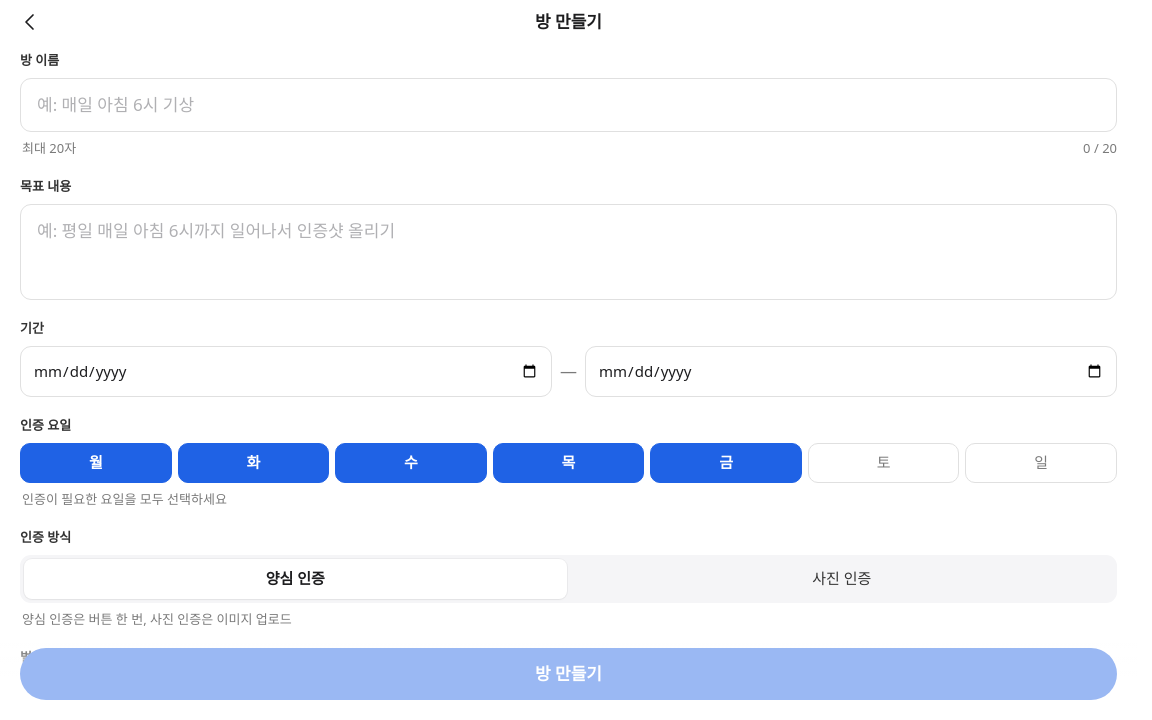
it: RoomNewPage › 종료일이 시작일보다 빠르면 안내를 보여주고 제출을 막는다
In the field labelled "방 이름": (568, 105) [20,78,1117,132], type "아침 6시 기상"
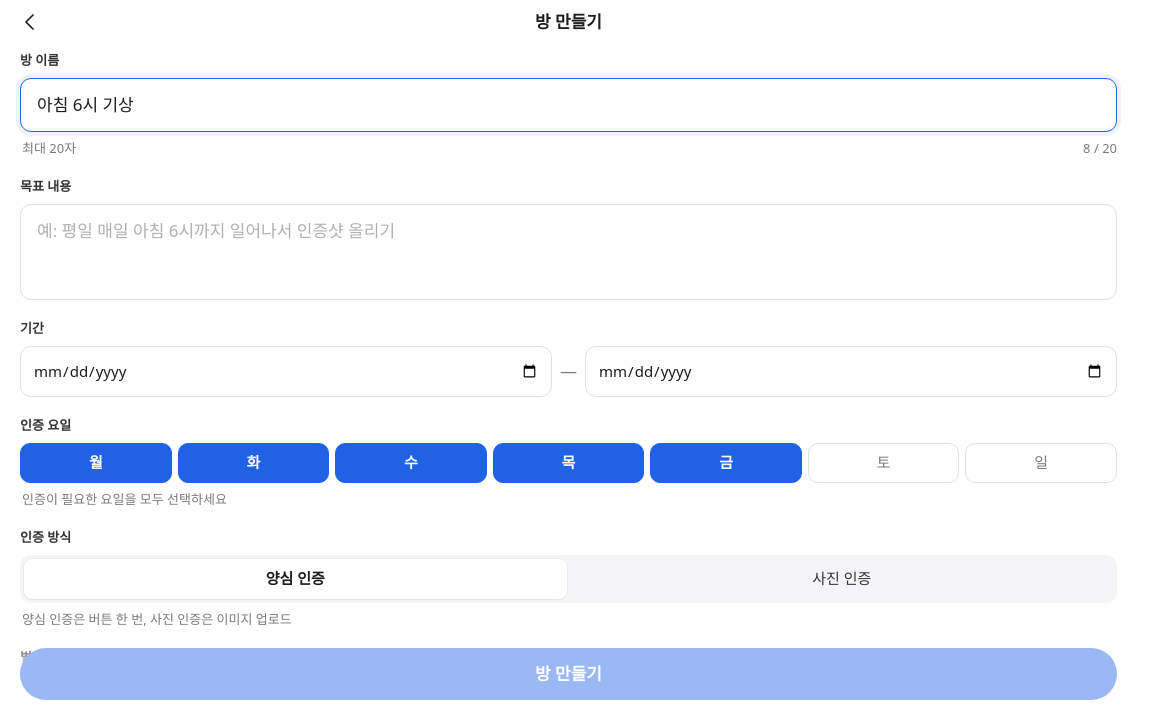
In the text box labelled "목표 내용": (568, 252) [20,204,1117,300], type "평일 6시 기상 인증"
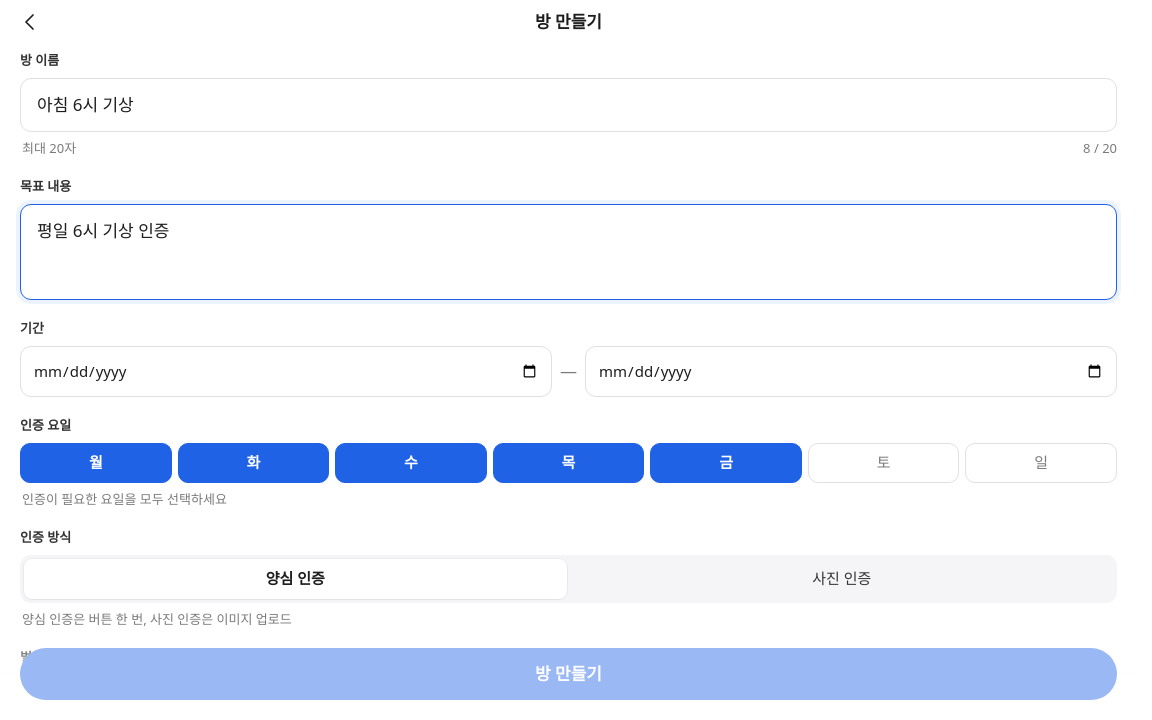
In the date field named "시작일": (286, 371) [20,346,552,397], type "2026-05-27"
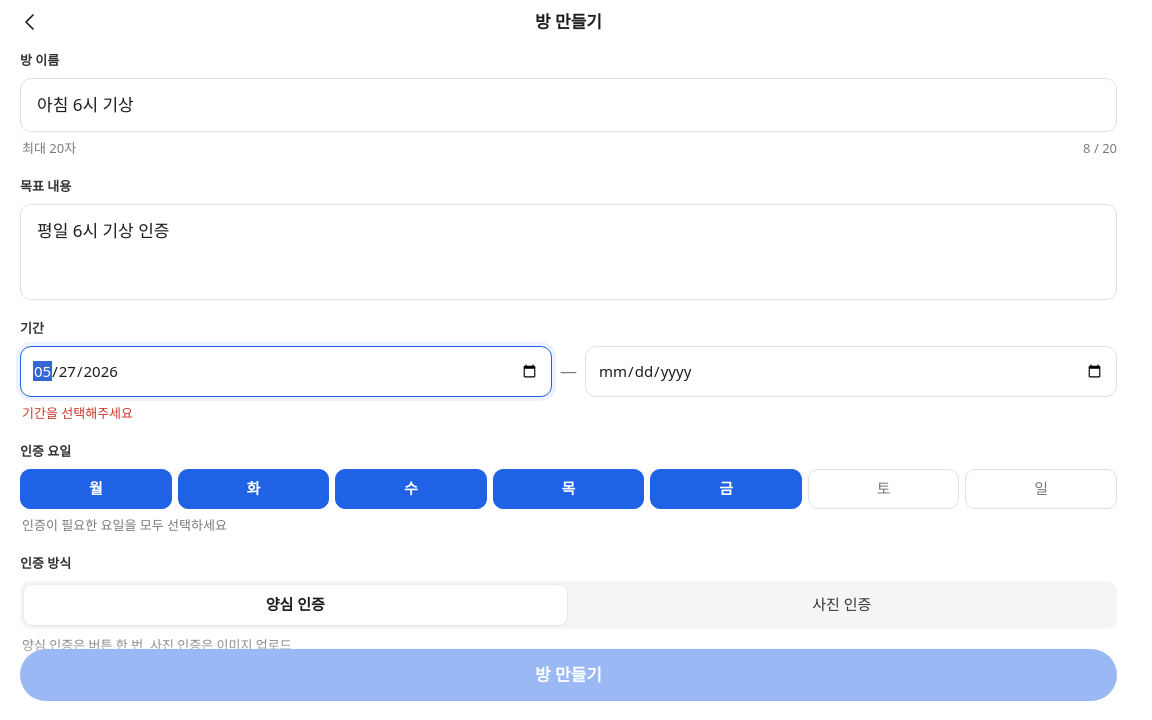
In the date field named "종료일": (851, 371) [585,346,1117,397], type "2026-06-27"
(page scrolled)
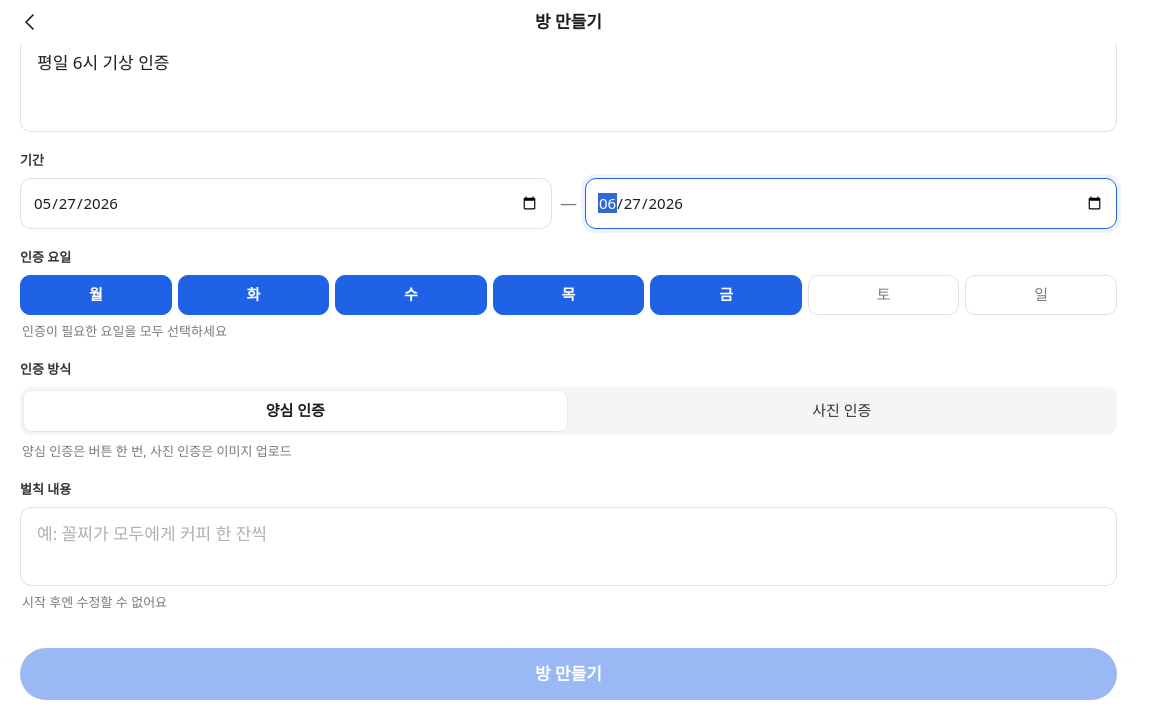
In the text box labelled "벌칙 내용": (568, 546) [20,507,1117,586], type "커피 쏘기"
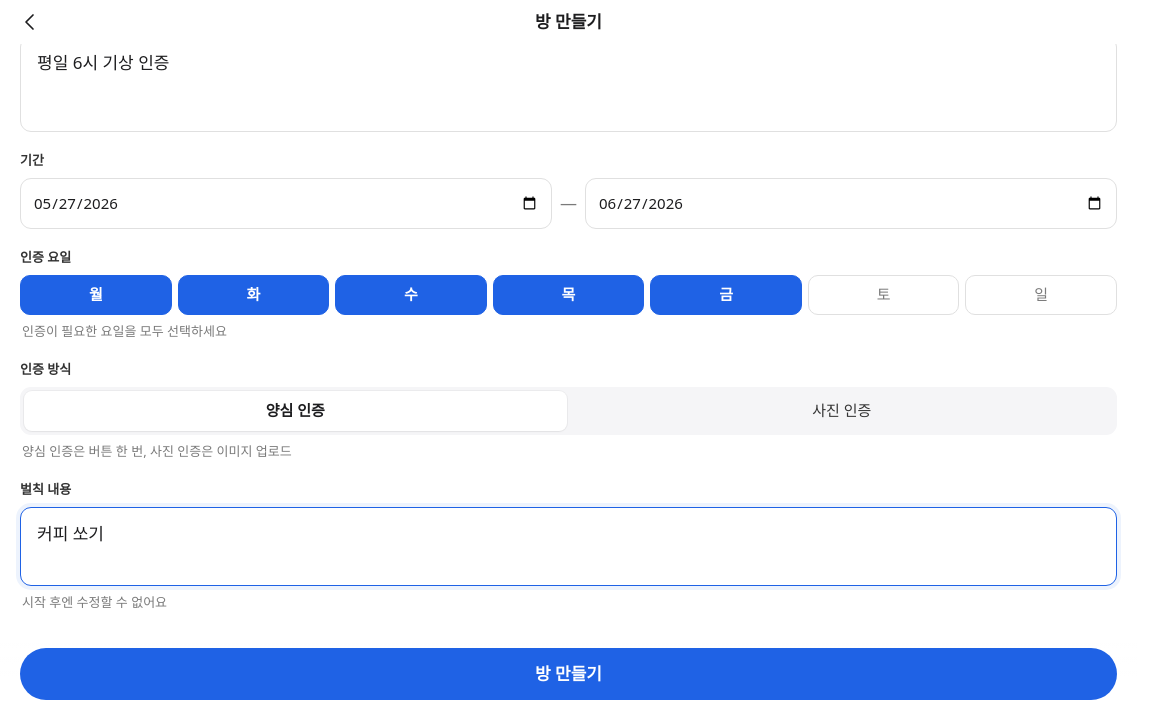
In the date field named "종료일": (851, 203) [585,178,1117,229], type "2026-05-01"
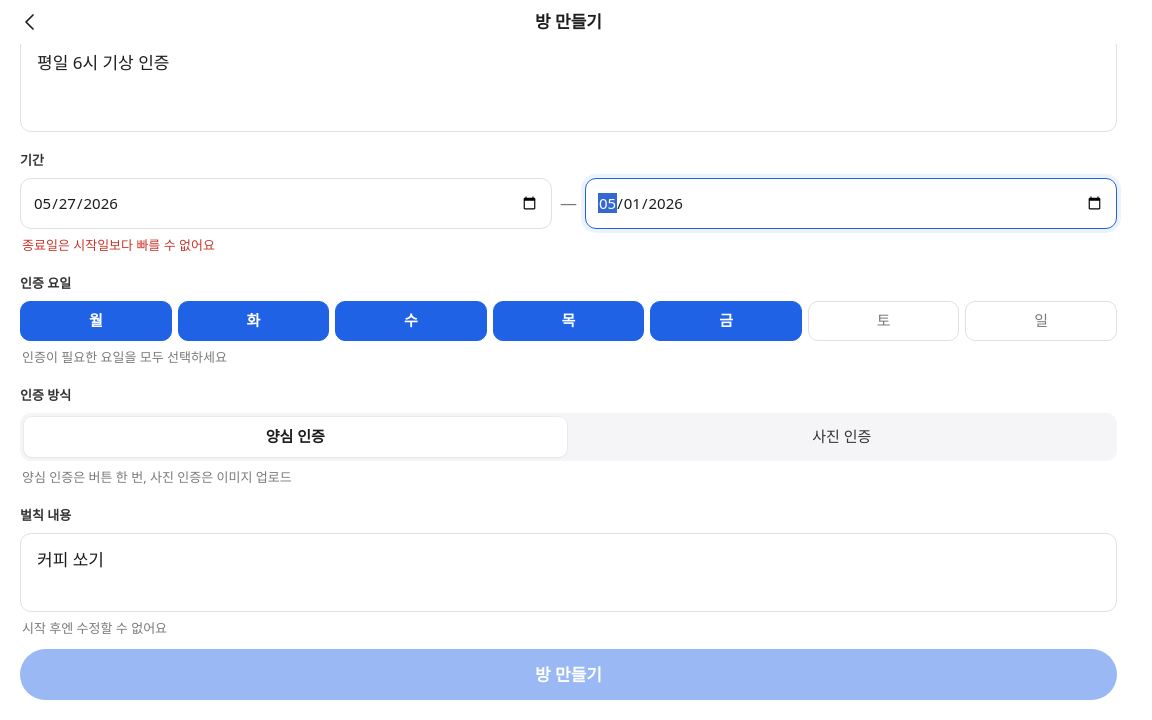
Check: the button "방 만들기" is disabled, box [20,648,1117,700]
Check: the text "종료일은 시작일보다 빠를 수 없어요" is shown, box [22,236,215,254]
